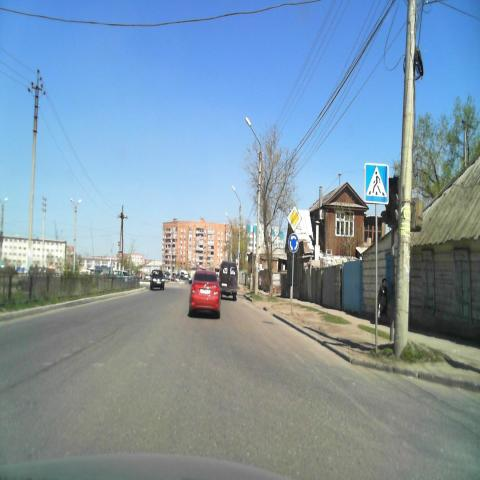2_2: (287, 205, 302, 231)
4_3: (288, 233, 299, 253)
